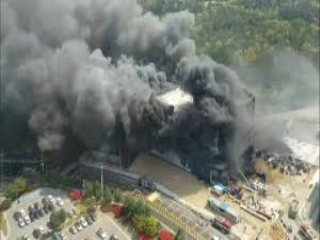smoke: (18, 13, 265, 179)
